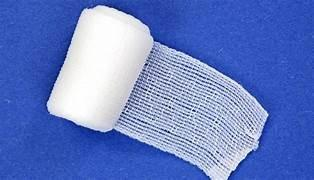cotton: (47, 6, 266, 178), (115, 42, 267, 178), (47, 6, 152, 131)
